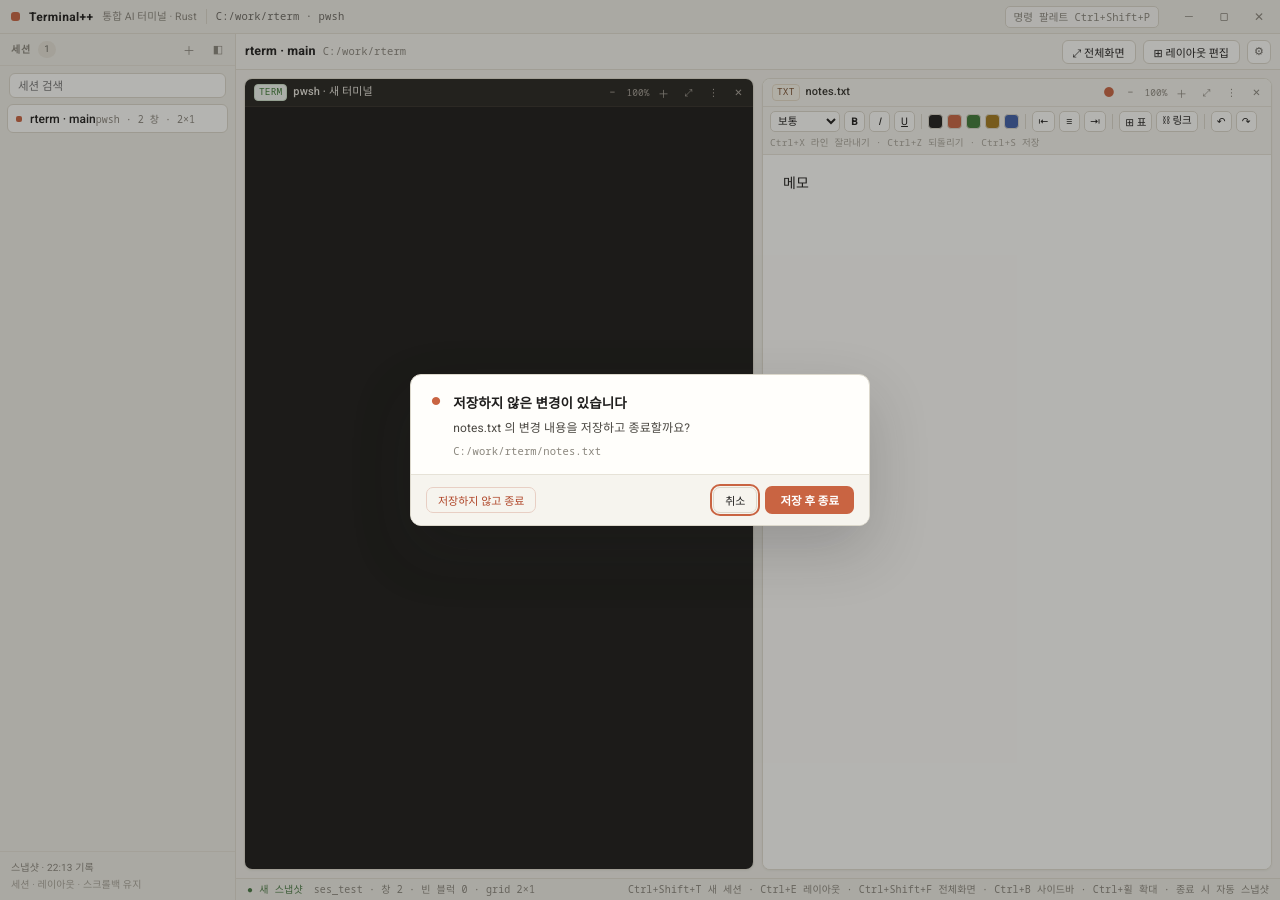
it: 앱 종료 가로채기 › 취소하면 종료되지 않는다
Click the button "취소": (735, 500) [713,487,757,513]
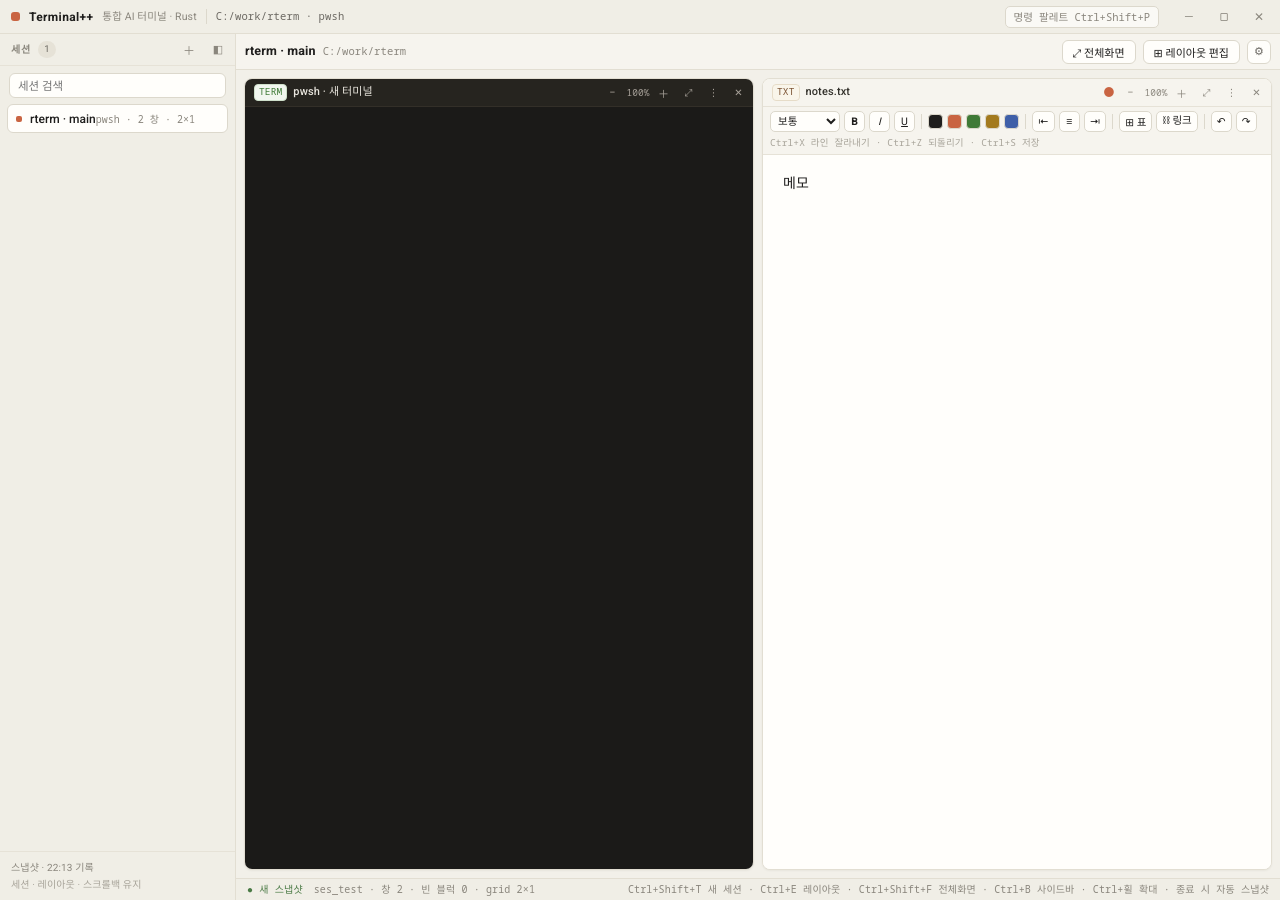
Check: the text "저장하지 않은 변경이 있습니다" is gone
